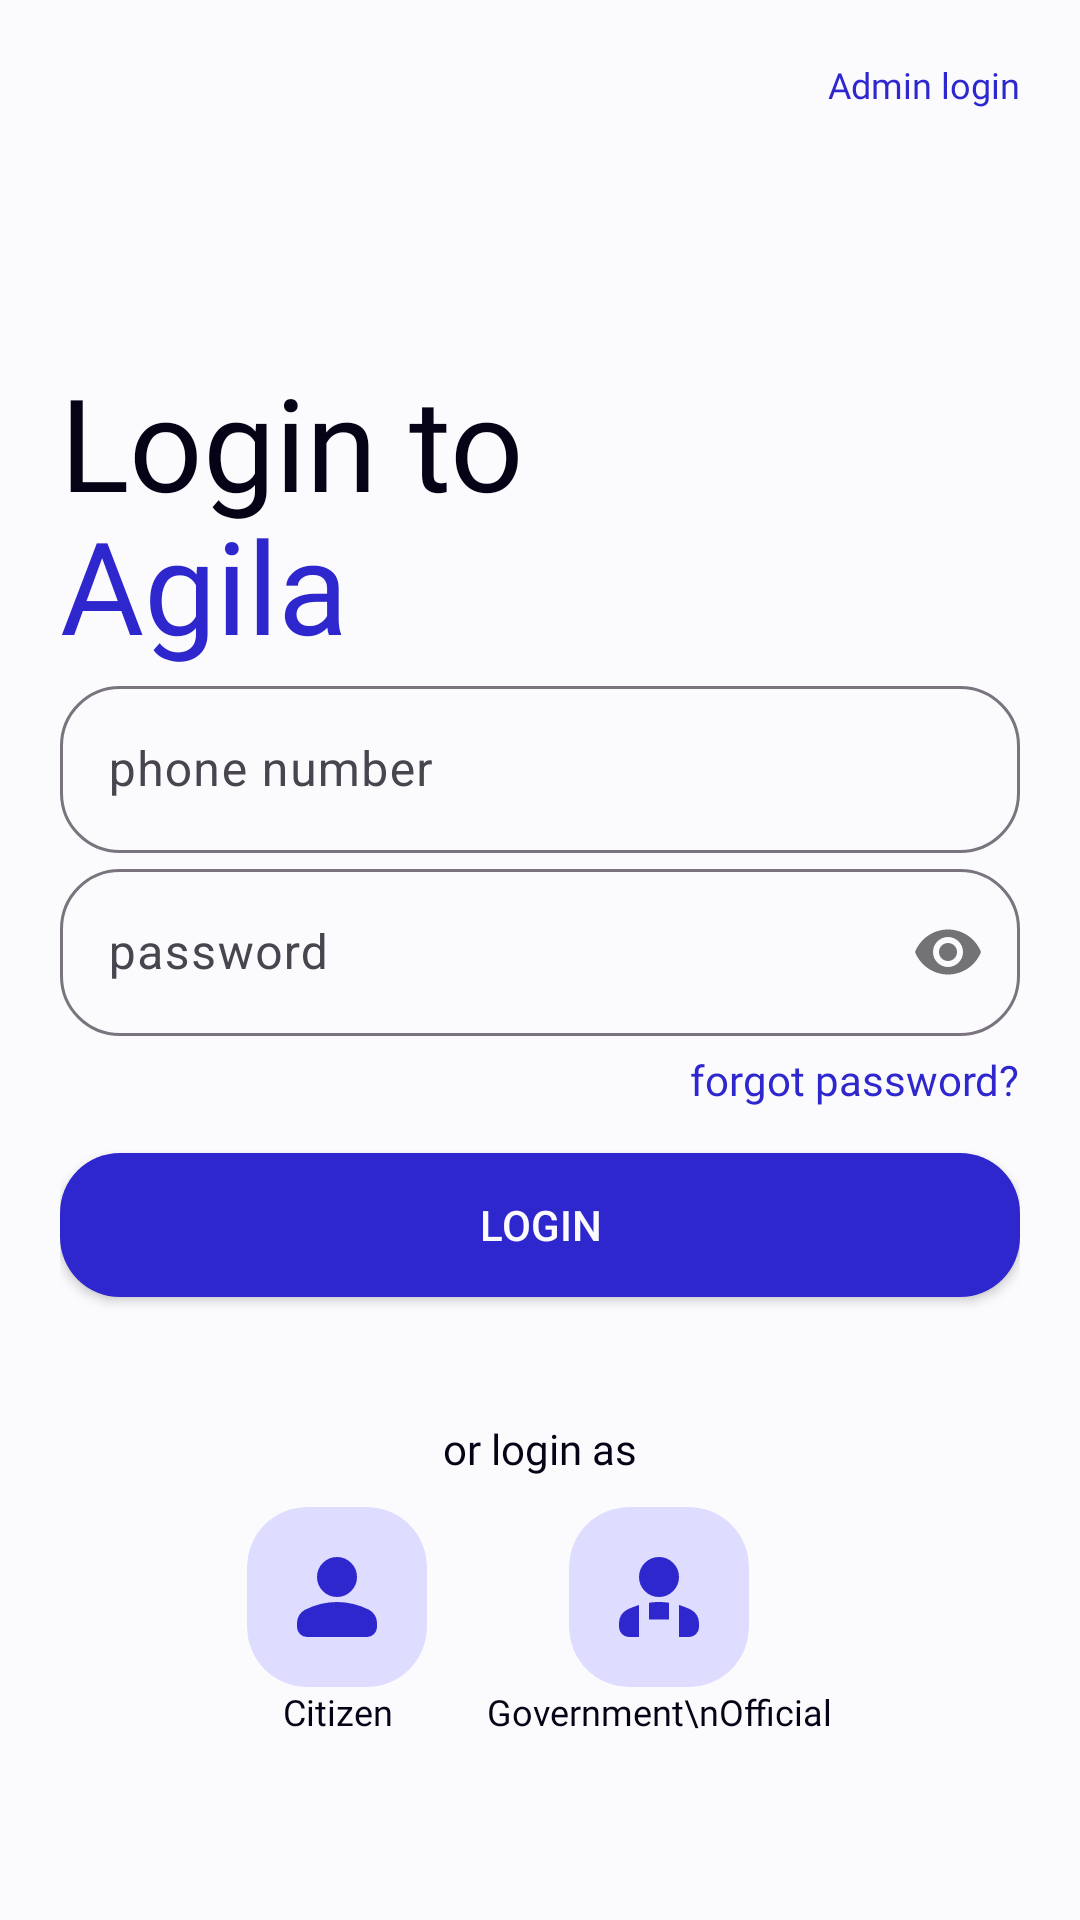

Named icons in this screenshot (1080×1920) and their centers, (x,y):
symbols person apron rounded: (659,1597)
symbols person rounded: (337,1597)
